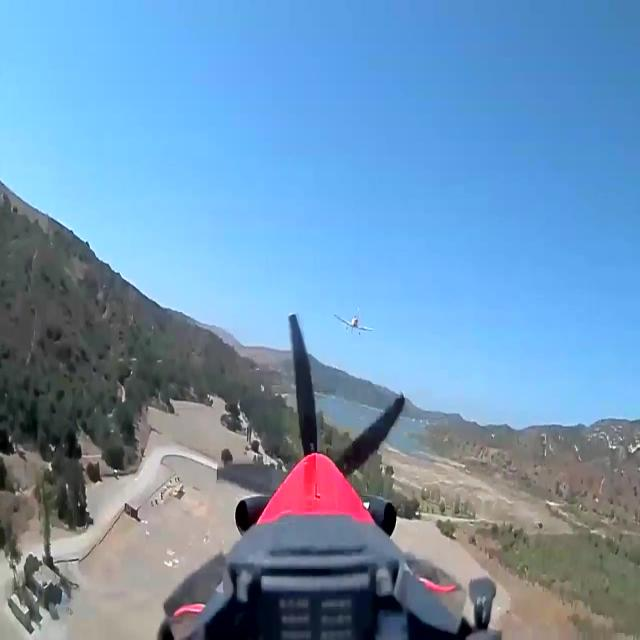iha: (335, 304, 373, 336)
